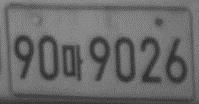0: (113, 34, 136, 83), (36, 34, 58, 81)
2: (140, 36, 163, 83)
6: (165, 38, 187, 82)
9: (88, 35, 112, 82), (13, 34, 35, 79)
마: (59, 43, 84, 82)
